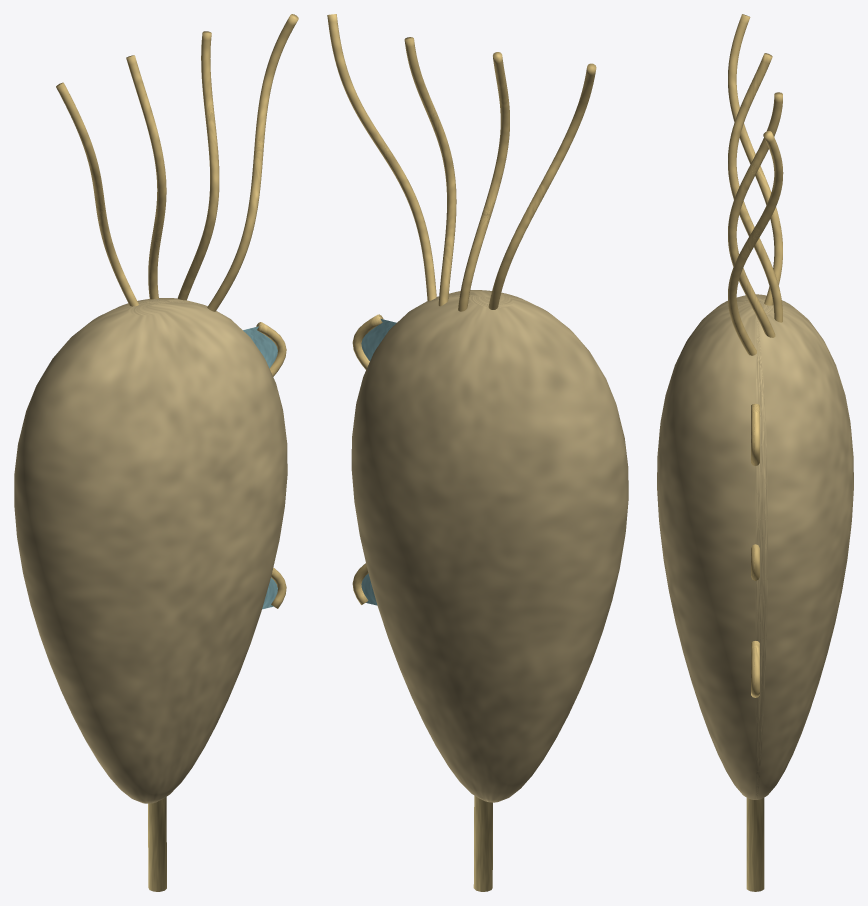
File: complete.glb
3 views of the same model, side by side, from view 1: azimuth 30°, elevation 25°; view 2: azimuth 150°, elevation 25°; view 3: azimuth 270°, elevation 25° (orthographic). The views are drawn at different scales.
Parts seen in each view (by area): view 1: membrana_mesh, flagelo_mesh, axostilo_mesh, ondulante_mesh; view 2: membrana_mesh, flagelo_mesh, axostilo_mesh, ondulante_mesh; view 3: membrana_mesh, flagelo_mesh, axostilo_mesh.
Part boxes in pixels (x1,y1,x2,y2): membrana_mesh: (14, 298, 287, 803); flagelo_mesh: (56, 14, 298, 608); axostilo_mesh: (148, 797, 166, 891); ondulante_mesh: (243, 326, 277, 609); membrana_mesh: (351, 290, 628, 802); flagelo_mesh: (327, 14, 596, 604); axostilo_mesh: (473, 795, 492, 891); ondulante_mesh: (361, 319, 396, 605); membrana_mesh: (657, 294, 853, 799); flagelo_mesh: (728, 14, 783, 697); axostilo_mesh: (746, 798, 764, 891).
Bounding box in the file's own units: 1.24 × 3.52 × 0.7621.
Materials: 7 (7 with a texture image).
